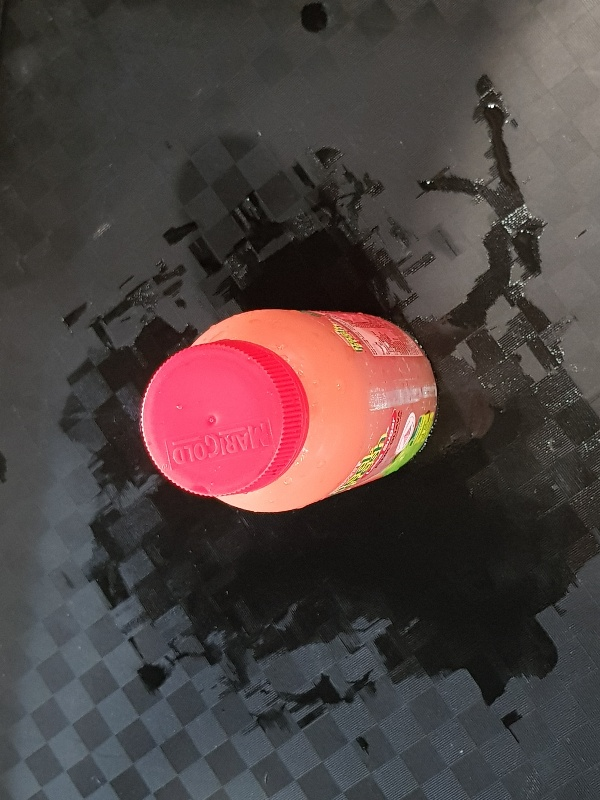Marigold Peel Fresh Pink Guava Juice Drink: (139, 308, 437, 514)
